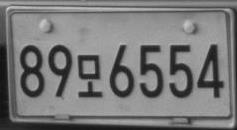4: (197, 43, 224, 99)
5: (139, 44, 164, 99), (168, 44, 193, 98)
6: (108, 44, 134, 98)
8: (18, 44, 45, 98)
9: (47, 44, 73, 97)
모: (76, 53, 102, 98)
